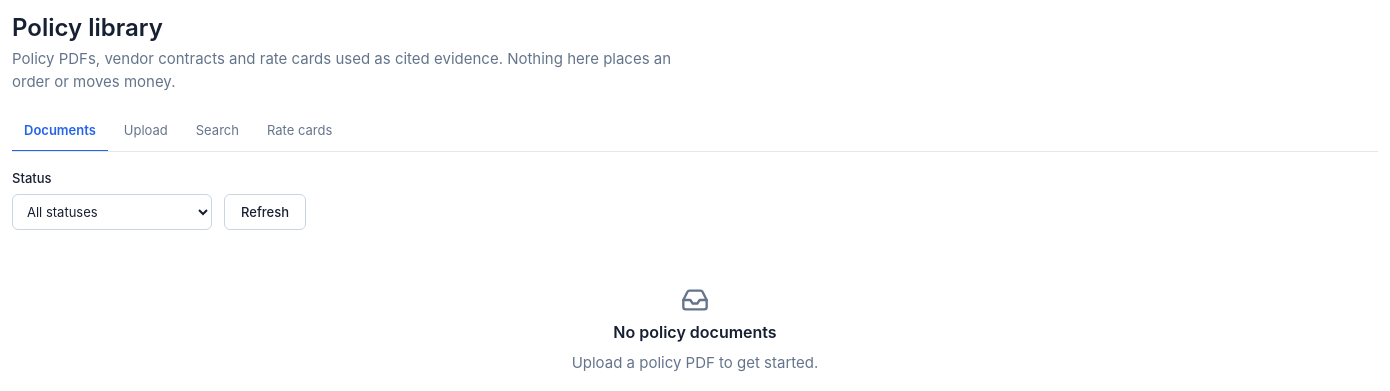
Scenario: PolicyLibraryPage — upload limits › falls back to the default copy when the limits endpoint is missing (404)
The image size is (1390, 391).
Click the tab "Upload" at (146,131), box [112, 110, 180, 152]
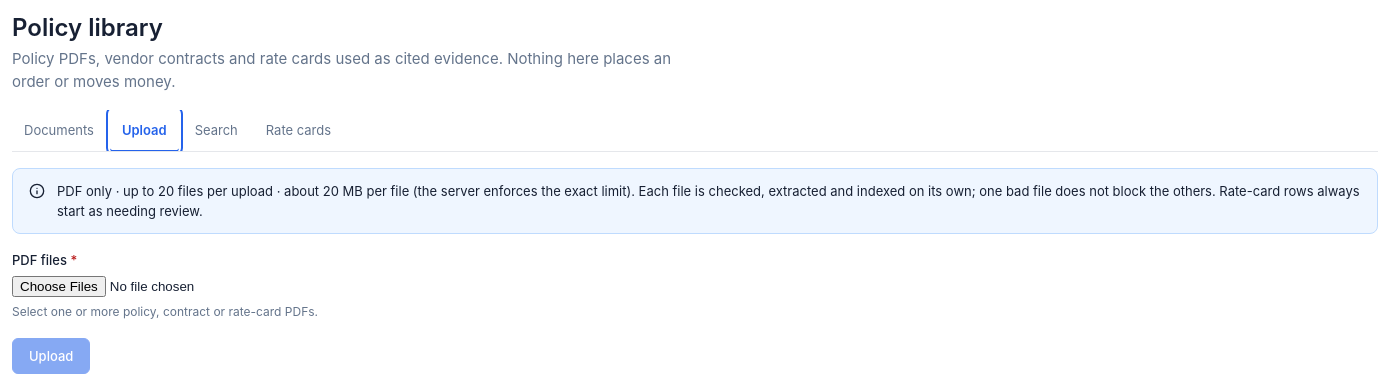
Check: the text "about 20 MB per file (the server enforces the" is shown, box [57, 181, 1361, 221]
